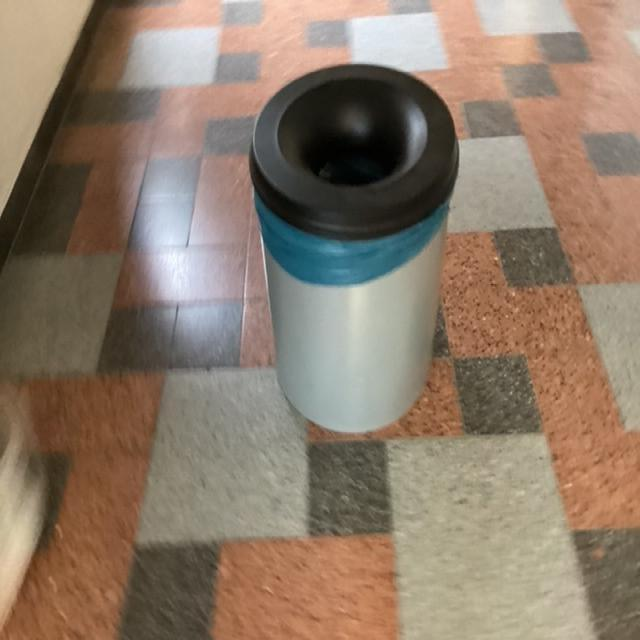garbage container: (239, 54, 468, 462)
